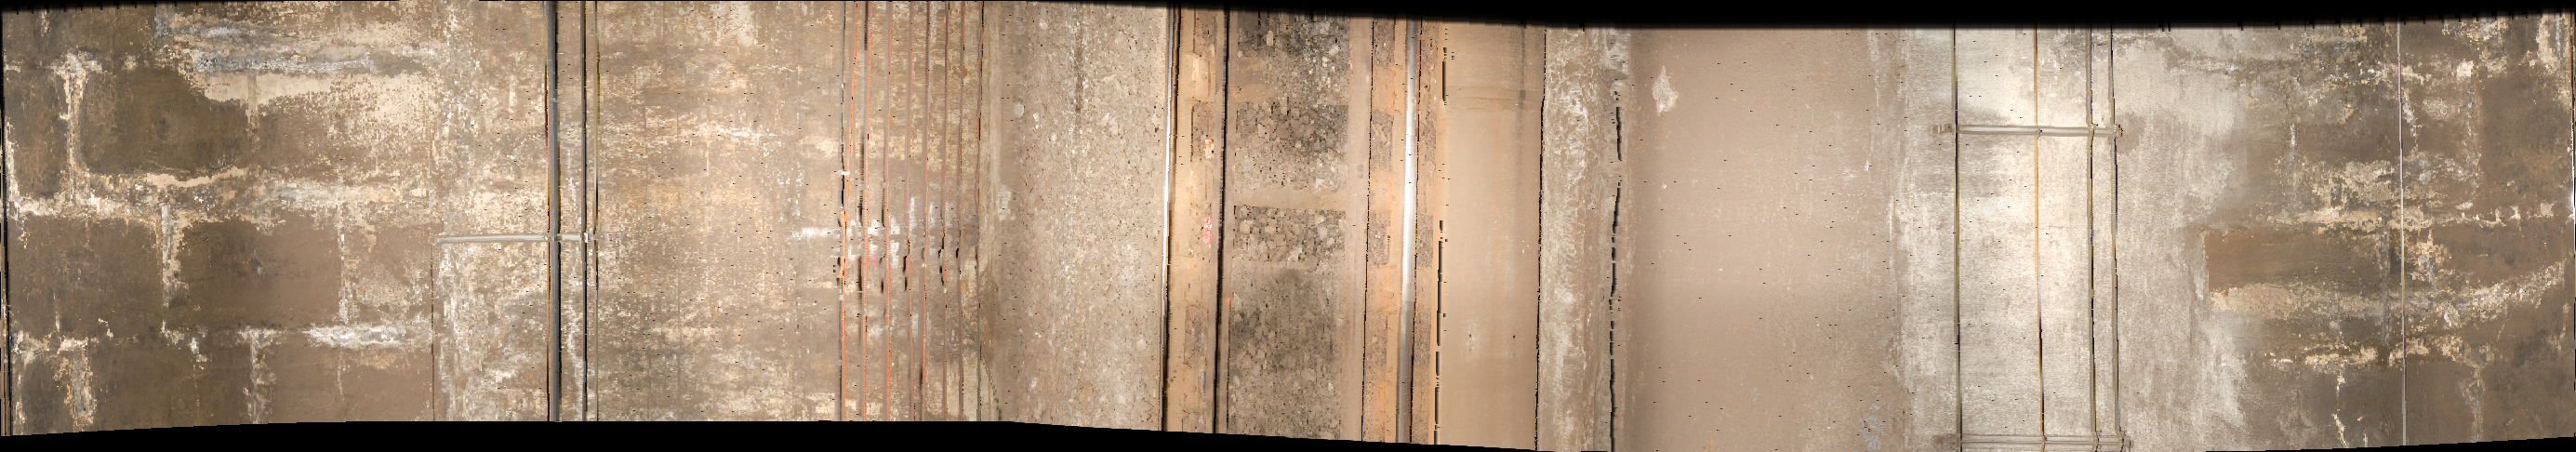pipes: (835, 8, 997, 436), (534, 3, 616, 431), (2075, 33, 2131, 452), (1935, 28, 1976, 452), (2022, 36, 2057, 452)
tracks: (1158, 12, 1543, 450)
